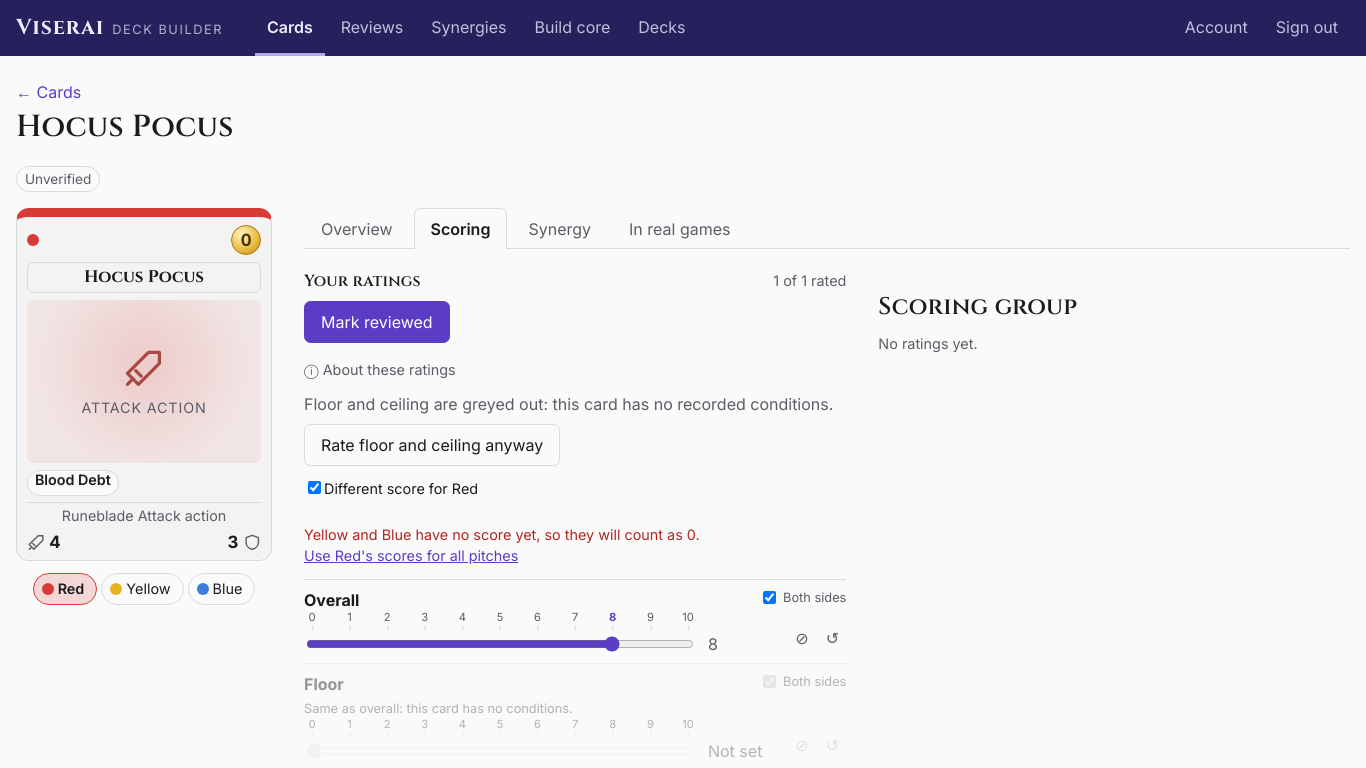
Test: Mark reviewed › applies the one-click fix for the blank-pitch trap
Click the button "Mark reviewed". click: (377, 322)
box: left=304, top=301, right=450, bottom=343
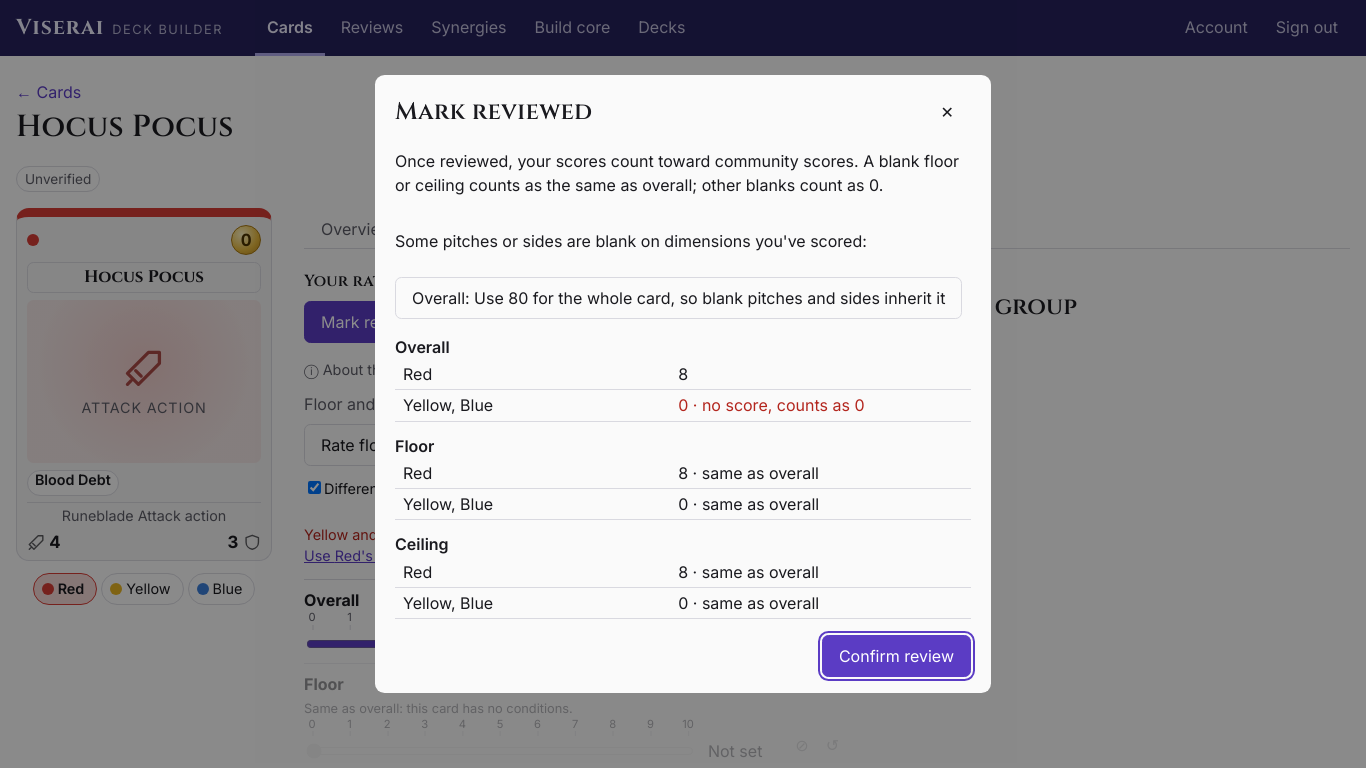
Click the button "Overall: Use 80 for the whole card, so blank pitches and sides inherit it". click: (679, 298)
box: left=395, top=277, right=962, bottom=319
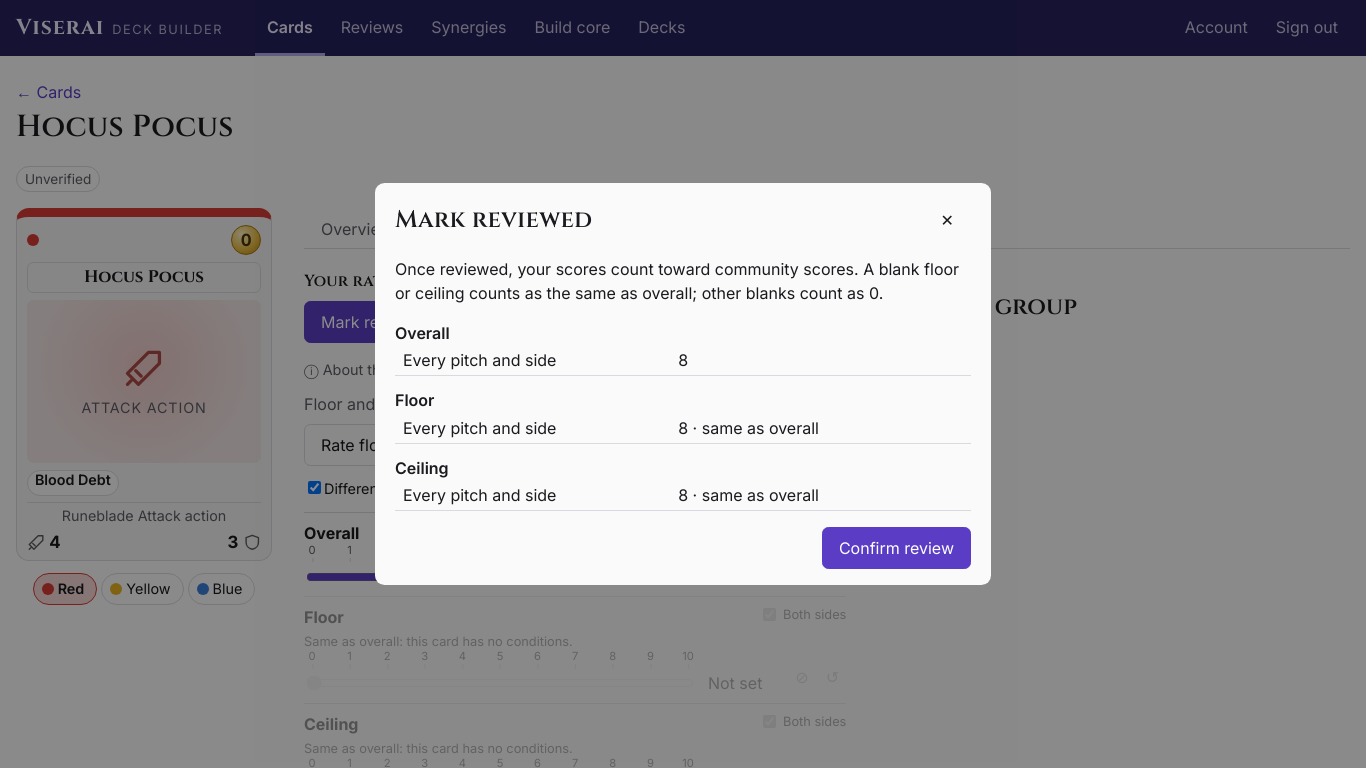
Expected: the text "0 · no score, counts as 0" is not shown
